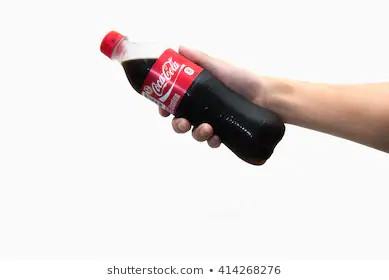coke-bottle-700ml: (98, 24, 289, 166)
